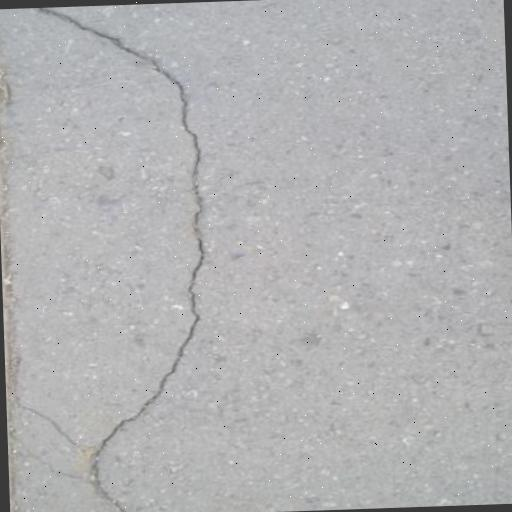spalling: (27, 6, 219, 510)
